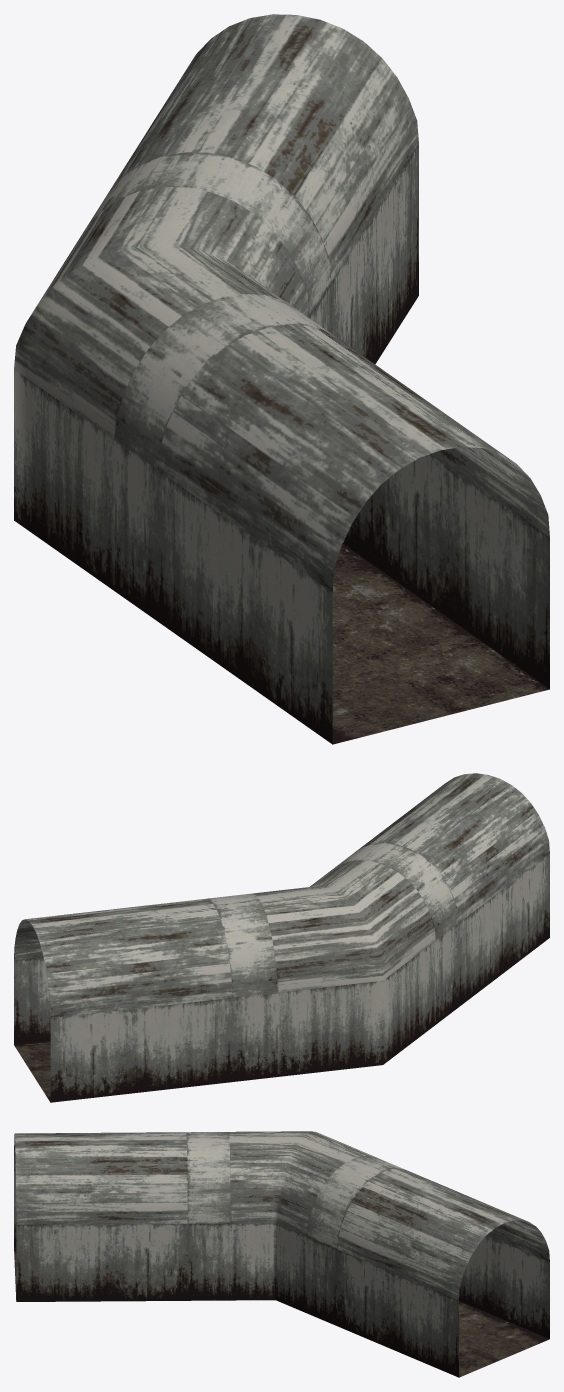
File: SM_EC_ConcreteTunnel_45_0.fbx
3 views of the same model, one above another, from view 1: azimuth 30°, elevation 25°; view 2: azimuth 150°, elevation 25°; view 3: azimuth 270°, elevation 25° (orthographic). The views are drawn at different scales.
Parts seen in each view (by area): view 1: SM_EC_ConcreteTunnel_45_0; view 2: SM_EC_ConcreteTunnel_45_0; view 3: SM_EC_ConcreteTunnel_45_0.
Part boxes in pixels (x1,y1,x2,y2): SM_EC_ConcreteTunnel_45_0: (14,14,549,744); SM_EC_ConcreteTunnel_45_0: (14,773,549,1102); SM_EC_ConcreteTunnel_45_0: (14,1131,549,1377).
Size of the model in its own units: 7.3 by 12.5 by 3.48.
